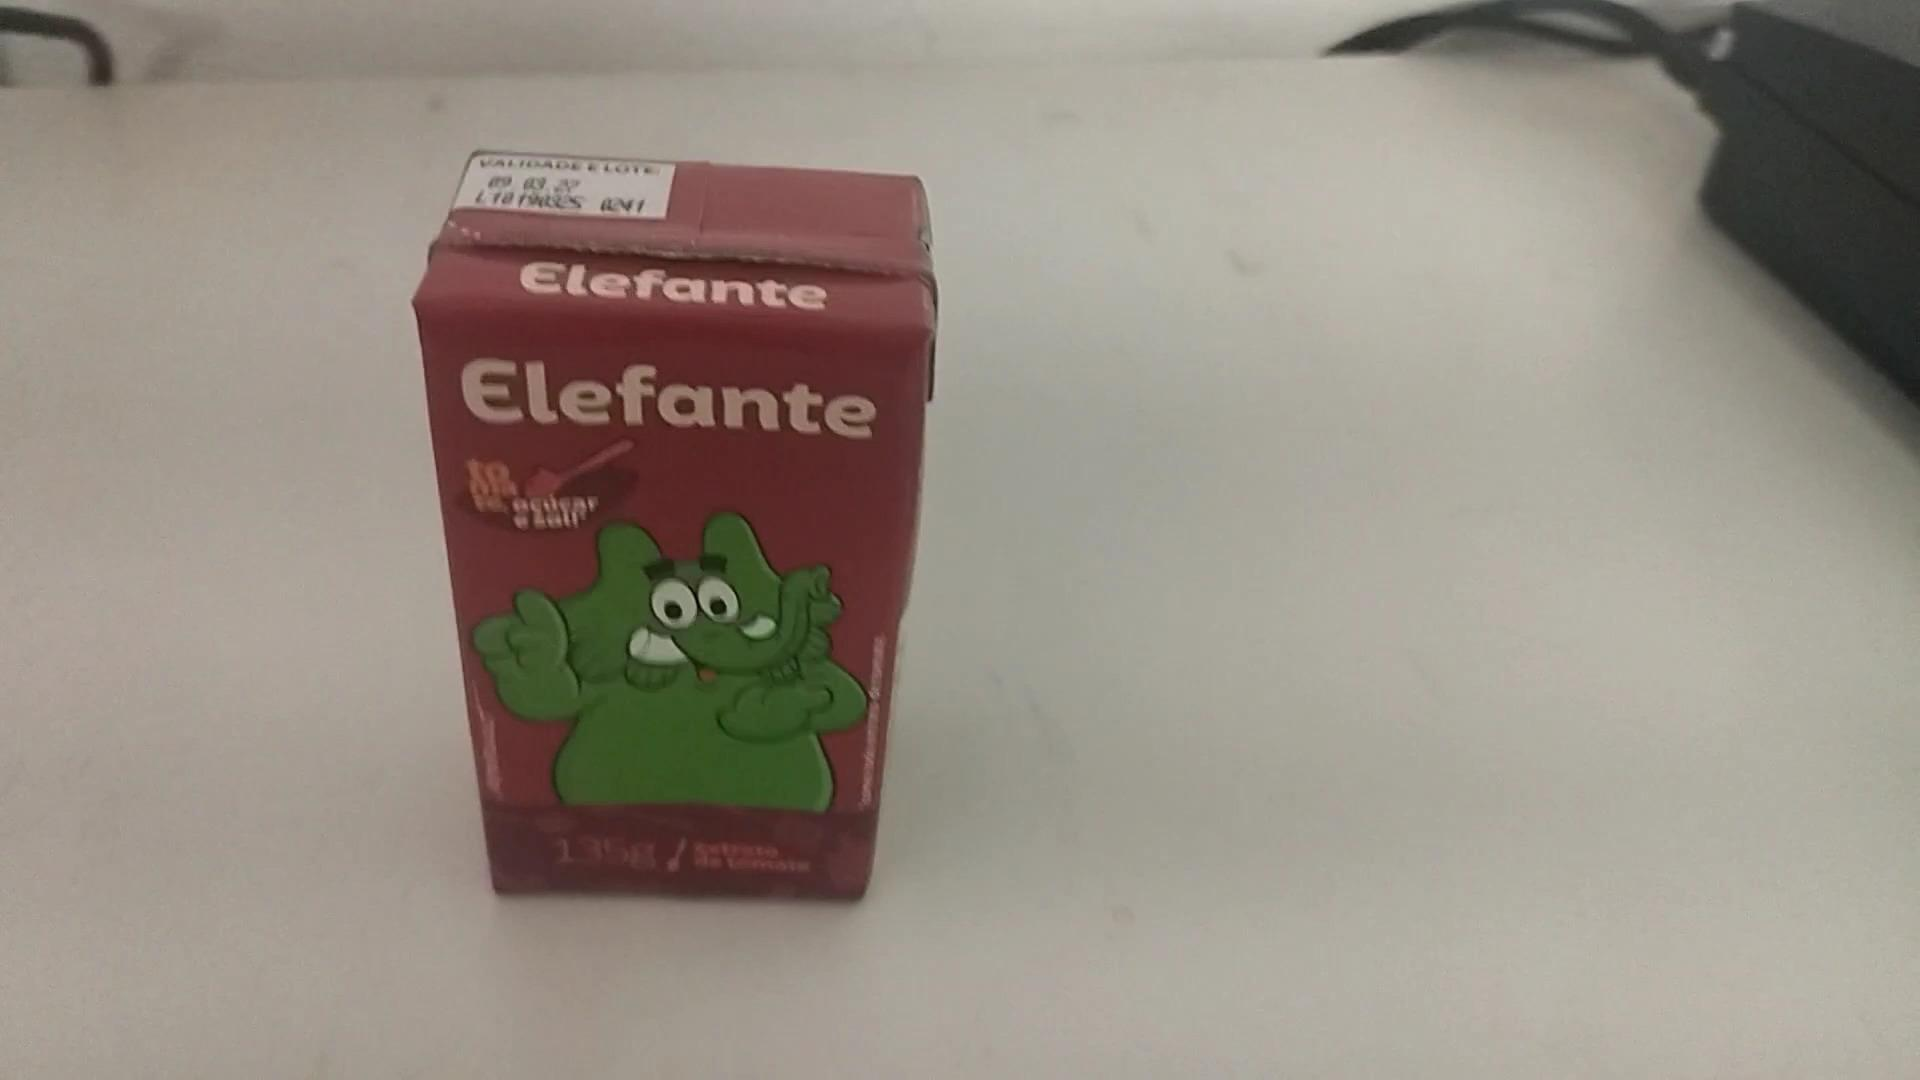tomate: (410, 138, 955, 899)
